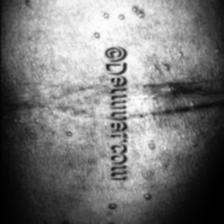Toxin: (141, 78, 217, 120)
